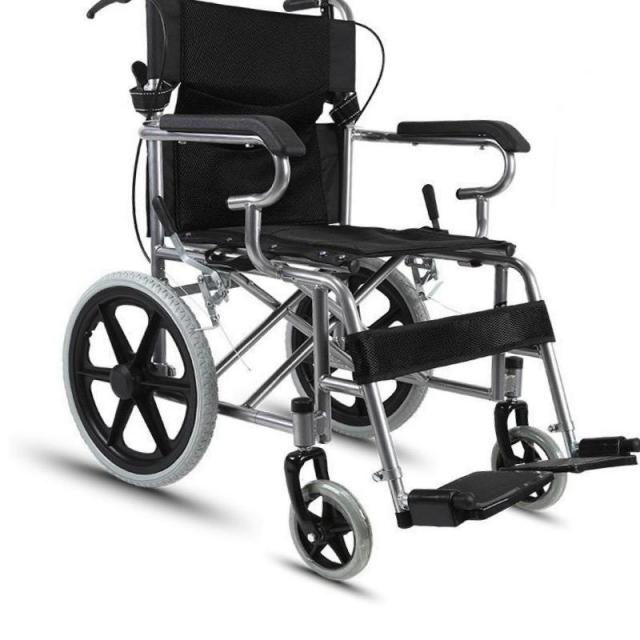wheelchair: (54, 0, 640, 589)
